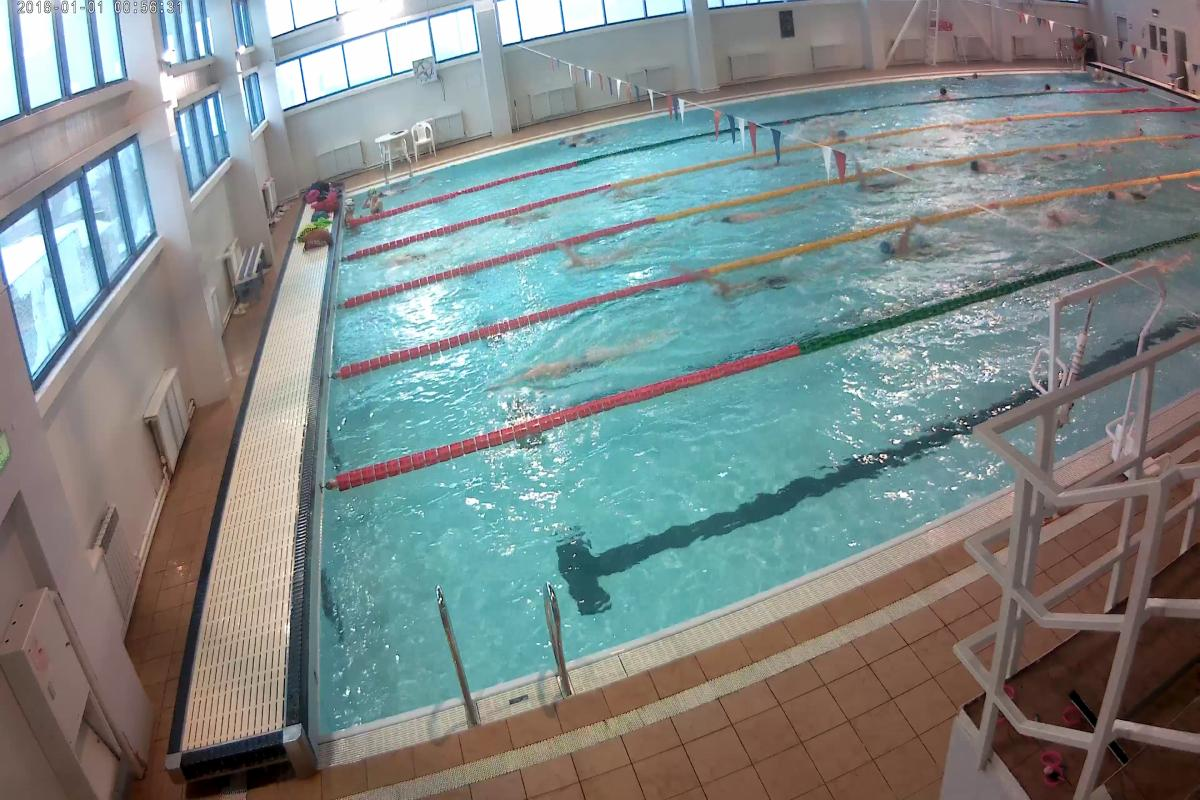swimmer: (510, 322, 692, 387), (872, 222, 972, 271), (698, 264, 797, 310), (712, 194, 826, 230), (1033, 200, 1086, 238), (966, 152, 1021, 181), (1102, 182, 1168, 204)
